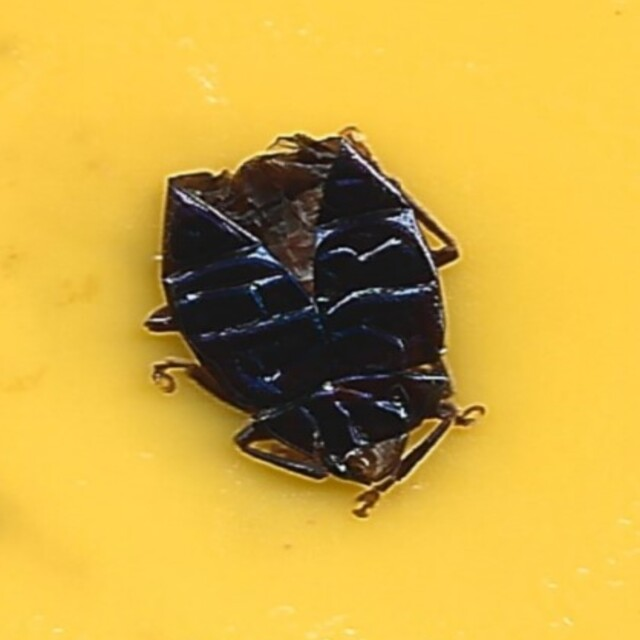Coleoptera: (153, 126, 487, 514)
